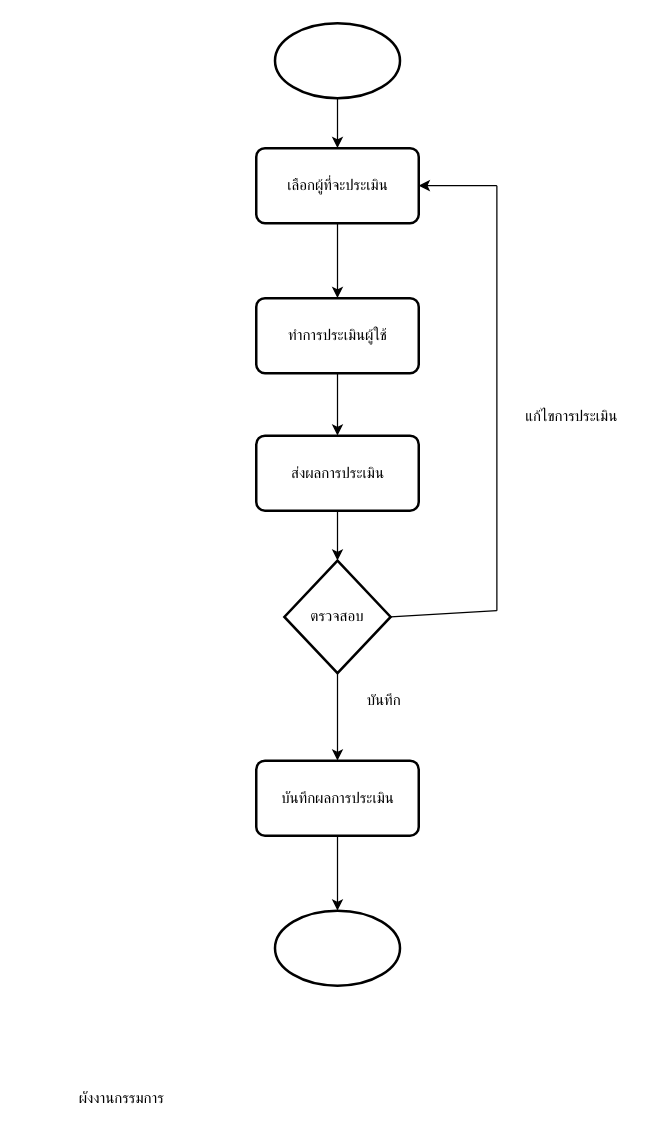
Some shapes in this 668 by 1144 pixel diagram are drawn without their labels. The box of each missing label's shape, as (x1, y1, x2, y2) in pixels:
สิ้นสุด: (273, 909, 401, 986)
เริ่มต้น: (273, 21, 401, 99)
